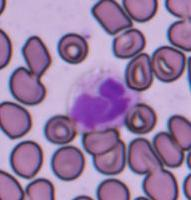N: (66, 68, 139, 132)
